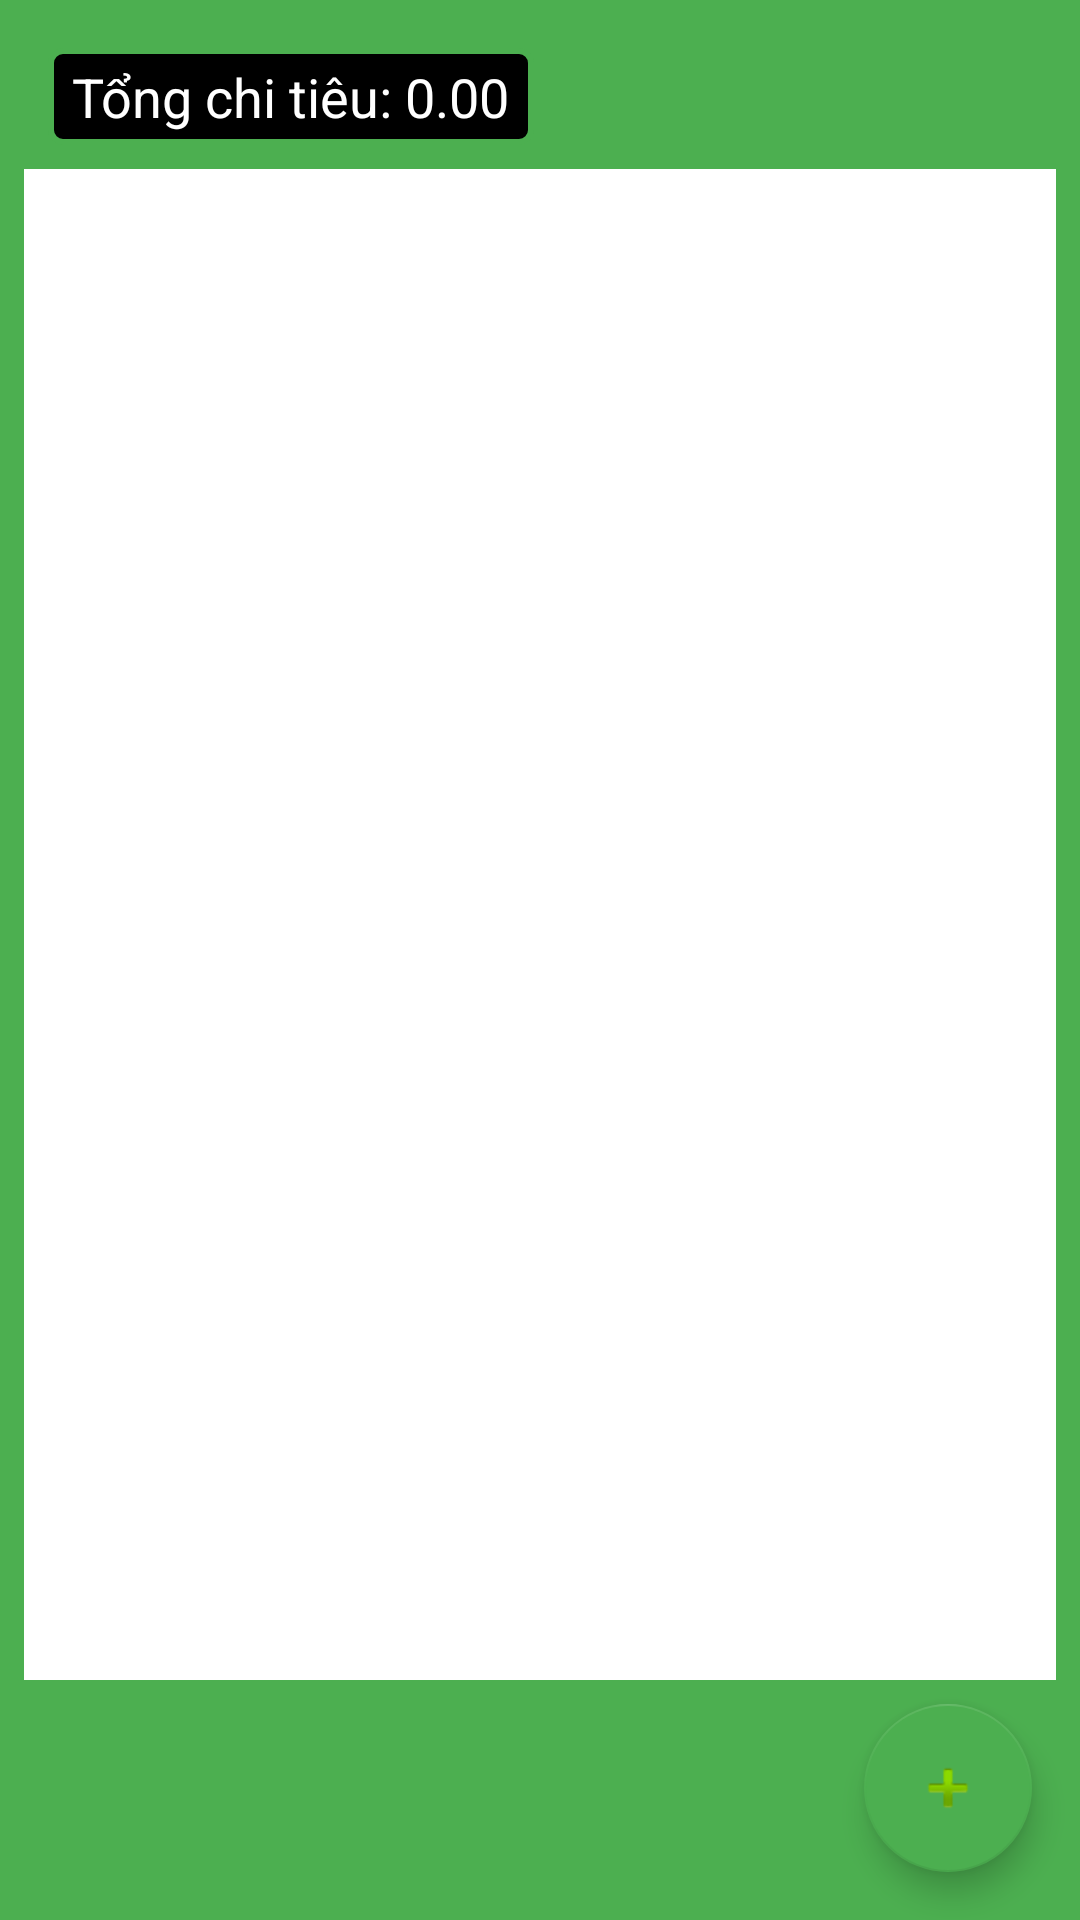

Where icons sit on this 1080px x 1920px app screen, as (x1, y1, x2, y2):
add: (928, 1704, 1029, 1814)
